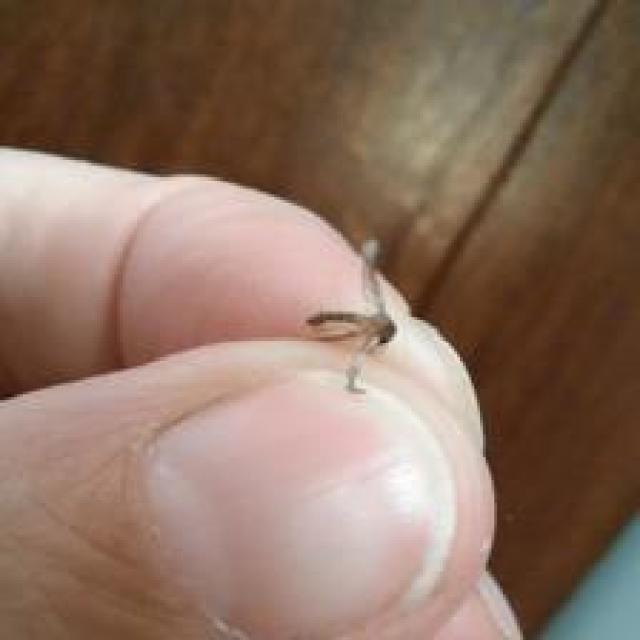Culex: (304, 236, 399, 396)
